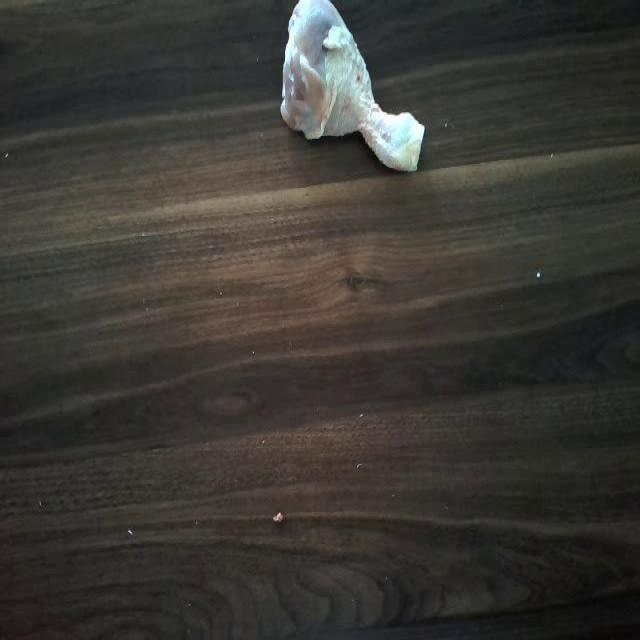leg: (272, 0, 431, 182)
